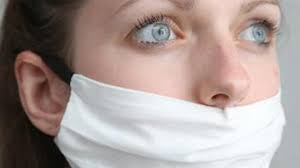mask_weared_incorrect: (96, 1, 287, 167)
